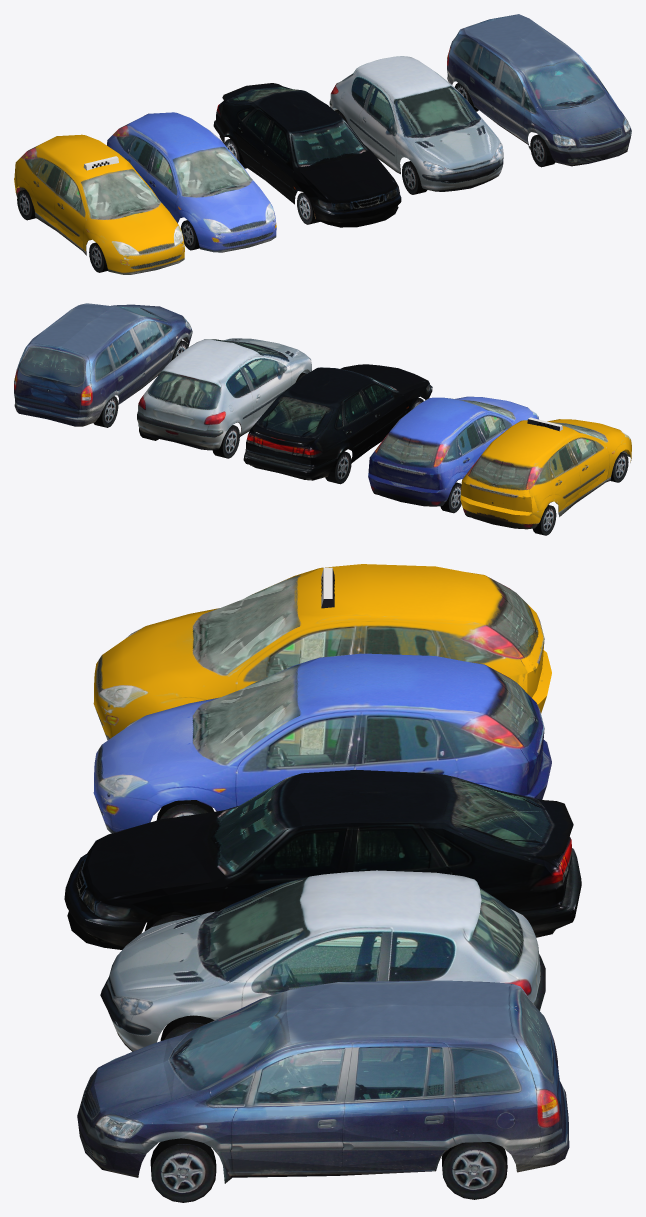
Rendered from SM_Cars.fbx.
3 renders of one model, top to bottom at view 1: azimuth 30°, elevation 25°; view 2: azimuth 150°, elevation 25°; view 3: azimuth 270°, elevation 25°, orthographic. The views are drawn at different scales.
Visible parts, largest first — view 1: Prefab_Car_v04, Prefab_Car_v02, Prefab_Car_v05, Prefab_Car_v01, Prefab_Car_v03; view 2: Prefab_Car_v04, Prefab_Car_v02, Prefab_Car_v05, Prefab_Car_v01, Prefab_Car_v03; view 3: Prefab_Car_v04, Prefab_Car_v02, Prefab_Car_v03, Prefab_Car_v01, Prefab_Car_v05.
Boxes of the visible parts, <box> form: Prefab_Car_v04: <box>447,14,631,167</box>; Prefab_Car_v02: <box>213,83,401,227</box>; Prefab_Car_v05: <box>14,134,184,274</box>; Prefab_Car_v01: <box>329,56,503,194</box>; Prefab_Car_v03: <box>107,112,276,252</box>; Prefab_Car_v04: <box>14,303,192,427</box>; Prefab_Car_v02: <box>243,364,432,484</box>; Prefab_Car_v05: <box>460,417,631,535</box>; Prefab_Car_v01: <box>137,338,311,458</box>; Prefab_Car_v03: <box>368,396,538,513</box>; Prefab_Car_v04: <box>77,980,569,1202</box>; Prefab_Car_v02: <box>64,770,581,949</box>; Prefab_Car_v03: <box>93,653,551,833</box>; Prefab_Car_v01: <box>100,870,545,1051</box>; Prefab_Car_v05: <box>93,564,551,740</box>.
Size of the model in its own units: 14.12 by 2.01 by 6.03.
